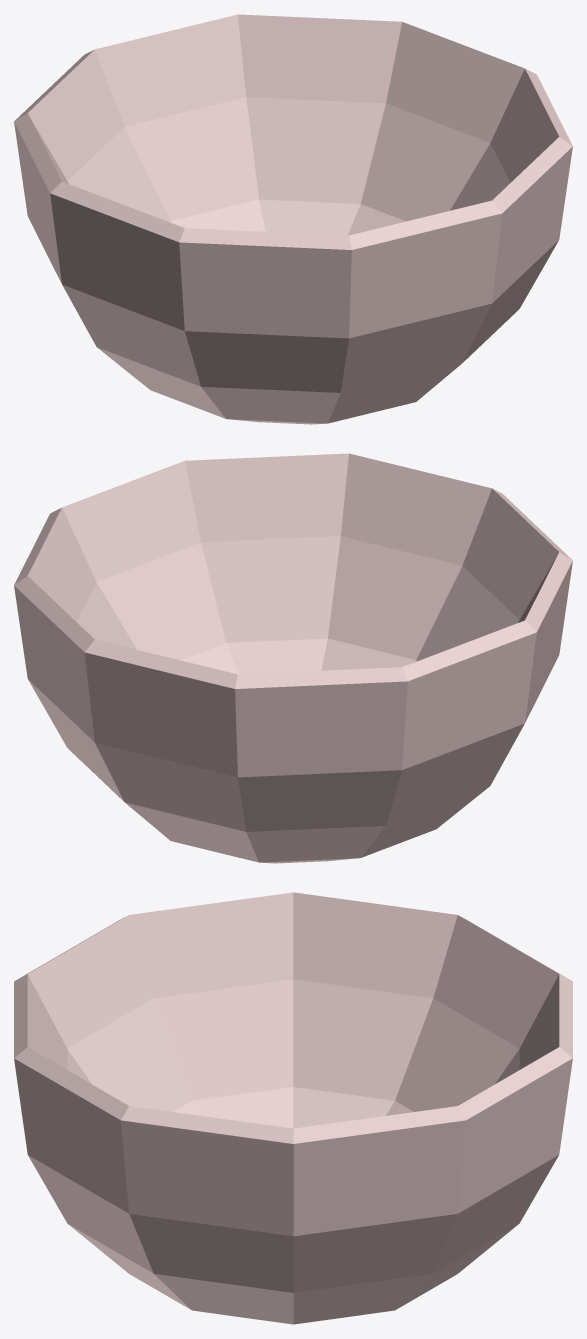
The model's file is prop_bowl.fbx.
3 renders of one model, top to bottom at view 1: azimuth 30°, elevation 25°; view 2: azimuth 150°, elevation 25°; view 3: azimuth 270°, elevation 25°, orthographic. The views are drawn at different scales.
Parts seen in each view (by area): view 1: pSphere1; view 2: pSphere1; view 3: pSphere1.
Part boxes in pixels (x1,y1,x2,y2): pSphere1: [14, 14, 572, 424]; pSphere1: [14, 453, 572, 863]; pSphere1: [14, 892, 572, 1324].
Bounding box in the file's own units: 46.88 × 24.27 × 44.59.
